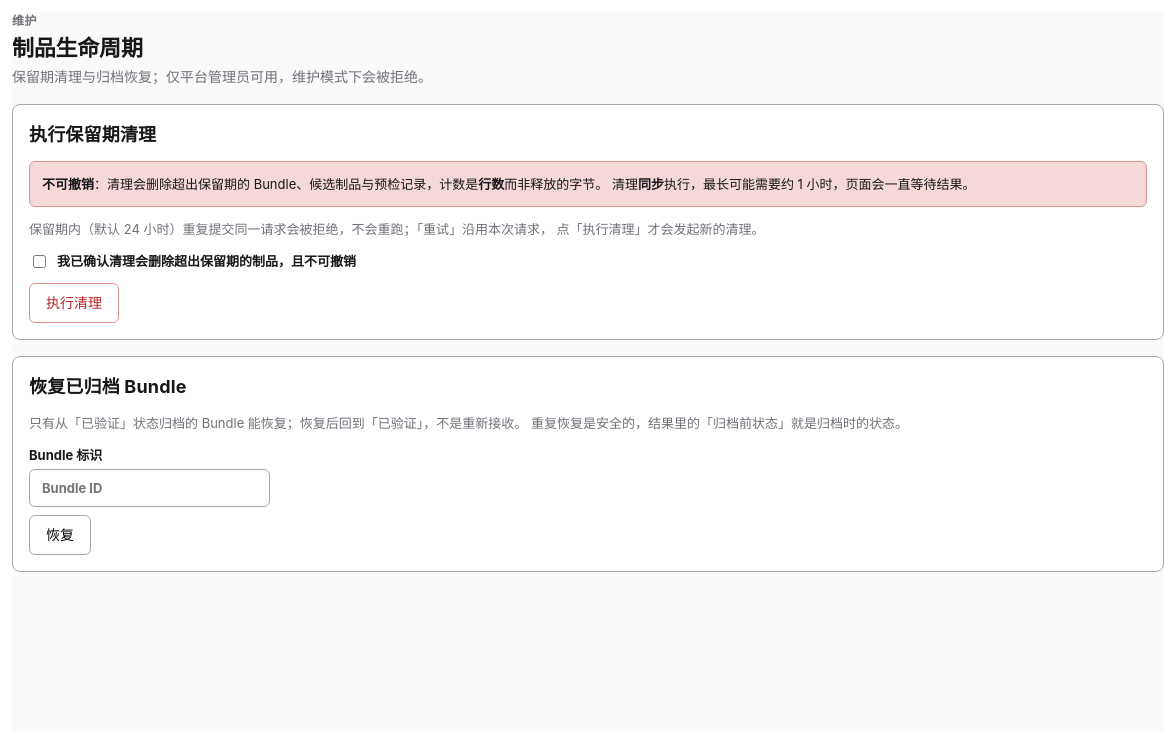
it: ArtifactLifecyclePage › surfaces the non-fatal errors of a successful run
What coordinates should you click on to do the following:
click the checkbox named "acknowledged"
I would click on:
 (40, 261)
Its box is [33,254,46,268].
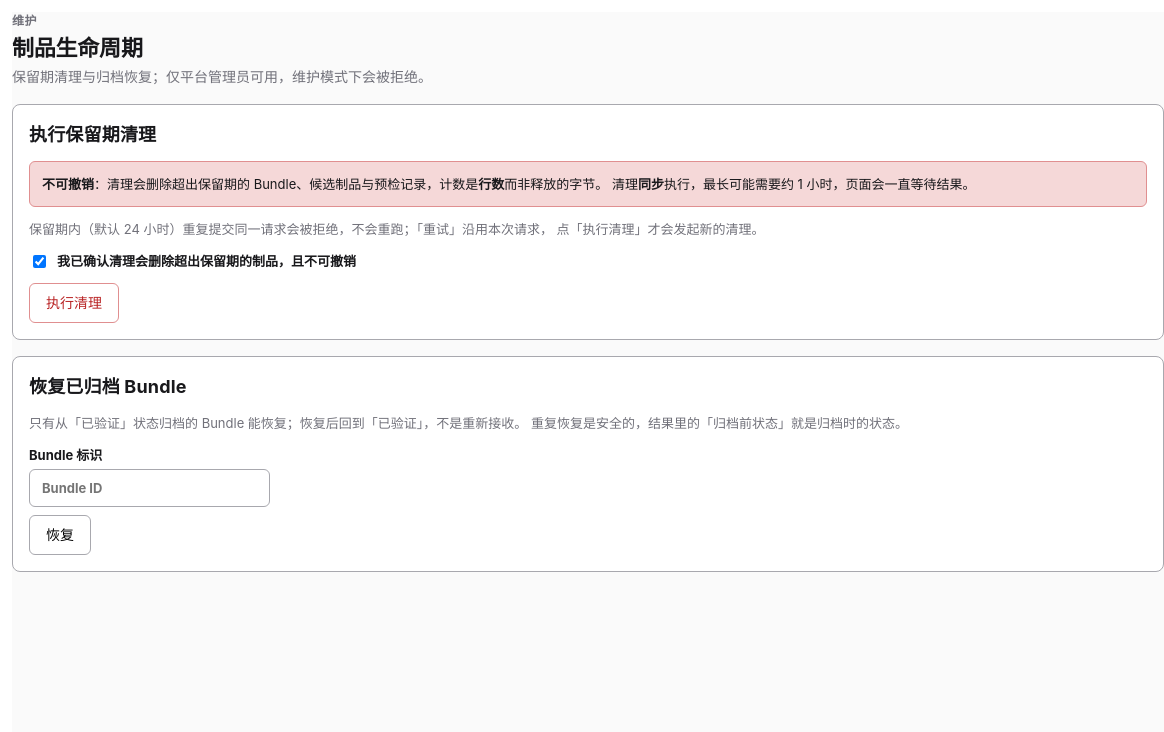
What coordinates should you click on to do the following:
click the button with test id "cleanup-run"
I would click on:
 (74, 303)
Its box is [29,283,119,323].
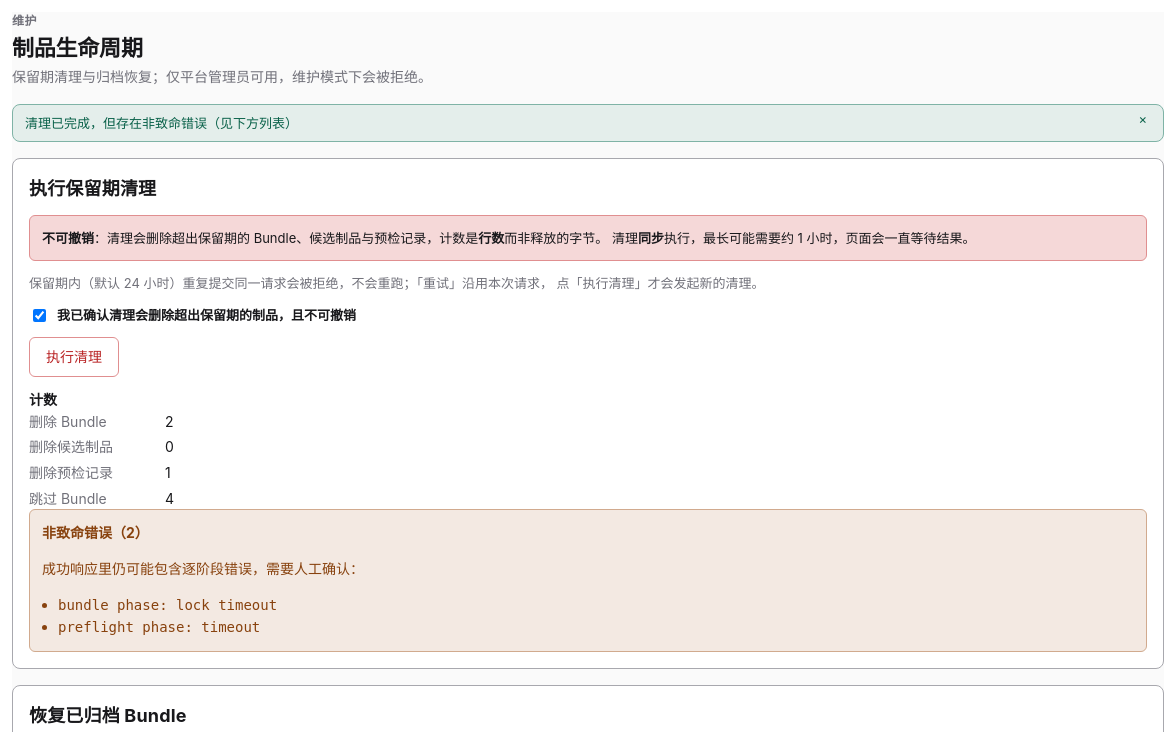
Result: the message with test id "cleanup-errors" shows "非致命错误（2）" at [42,524,149,541]
Result: the message with test id "cleanup-errors" shows "lock timeout" at [58,597,277,613]
Result: the message with test id "lifecycle-notice" shows "非致命错误" at [25,115,298,131]
